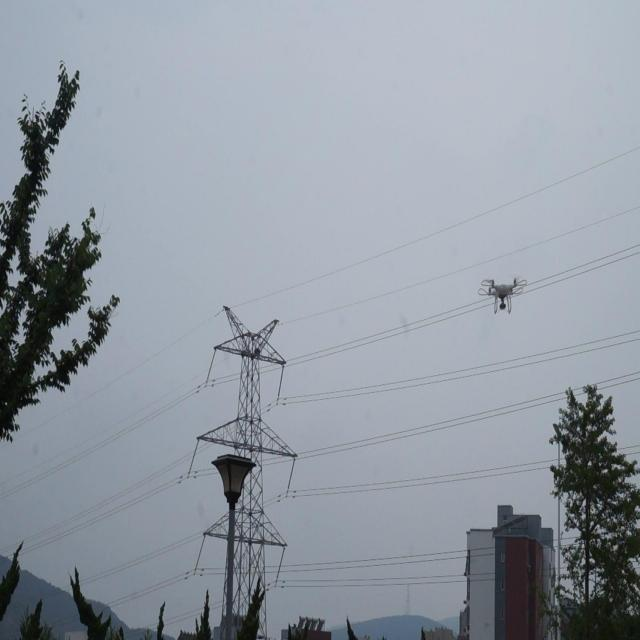UAV: (478, 278, 527, 314)
